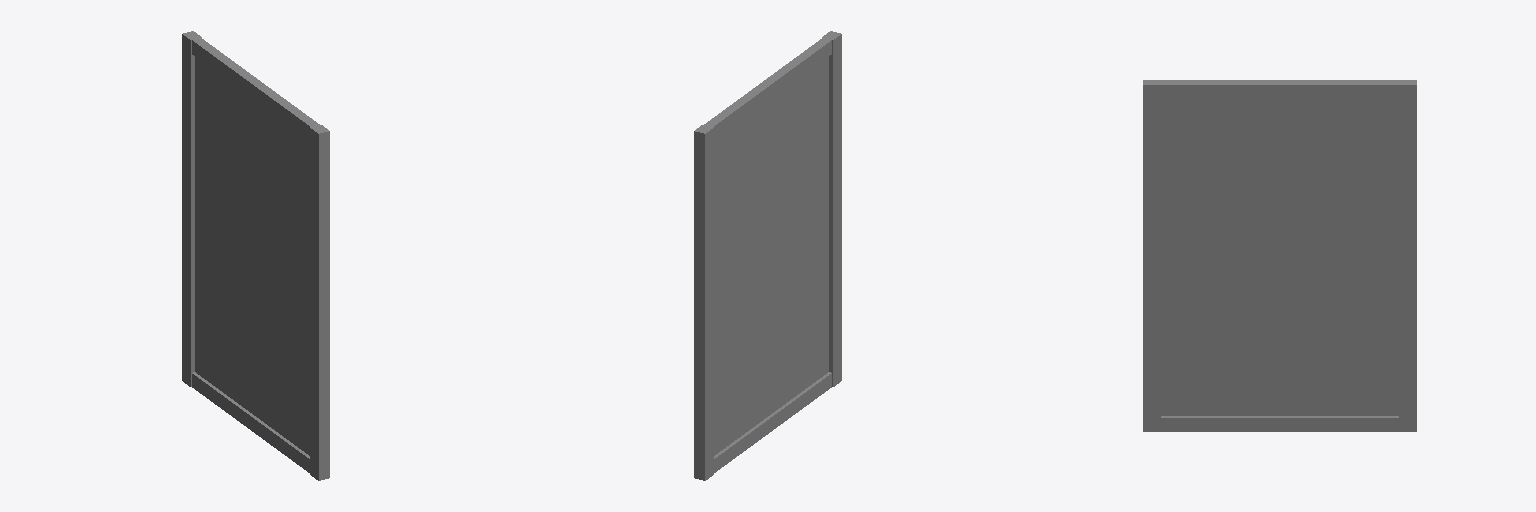
File: Multimedia_wall.obj
The picture shows the model from 3 angles: view 1: azimuth 30°, elevation 25°; view 2: azimuth 150°, elevation 25°; view 3: azimuth 270°, elevation 25°; orthographic projection.
Parts seen in each view (by area): view 1: ???????; view 2: ???????; view 3: ???????.
Part boxes in pixels (x1,y1,x2,y2): ???????: (182, 31, 329, 480); ???????: (694, 31, 841, 480); ???????: (1143, 80, 1416, 431).
Bounding box in the file's own units: 0.0902 × 2.58 × 1.84.